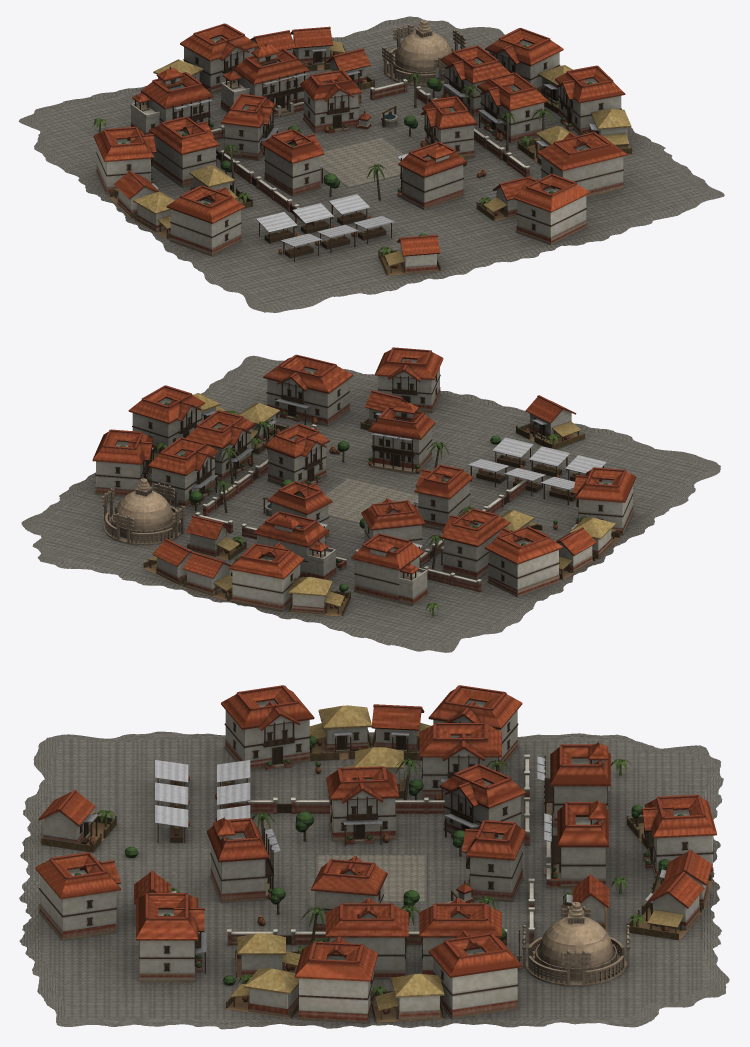
File: classical-town-big-b-indic.glb
3 renders of one model, top to bottom at view 1: azimuth 30°, elevation 25°; view 2: azimuth 150°, elevation 25°; view 3: azimuth 270°, elevation 25°, orthographic. The views are drawn at different scales.
Parts seen in each view (by area): view 1: LOD0; view 2: LOD0; view 3: LOD0.
Part boxes in pixels (left/top/right/bottom): LOD0: left=18, top=16, right=724, bottom=312; LOD0: left=21, top=347, right=720, bottom=652; LOD0: left=19, top=685, right=729, bottom=1029.
Size of what is drawn, in the model's own units: 8.04 by 0.934 by 8.12.
Materials: 3 (3 with a texture image).
